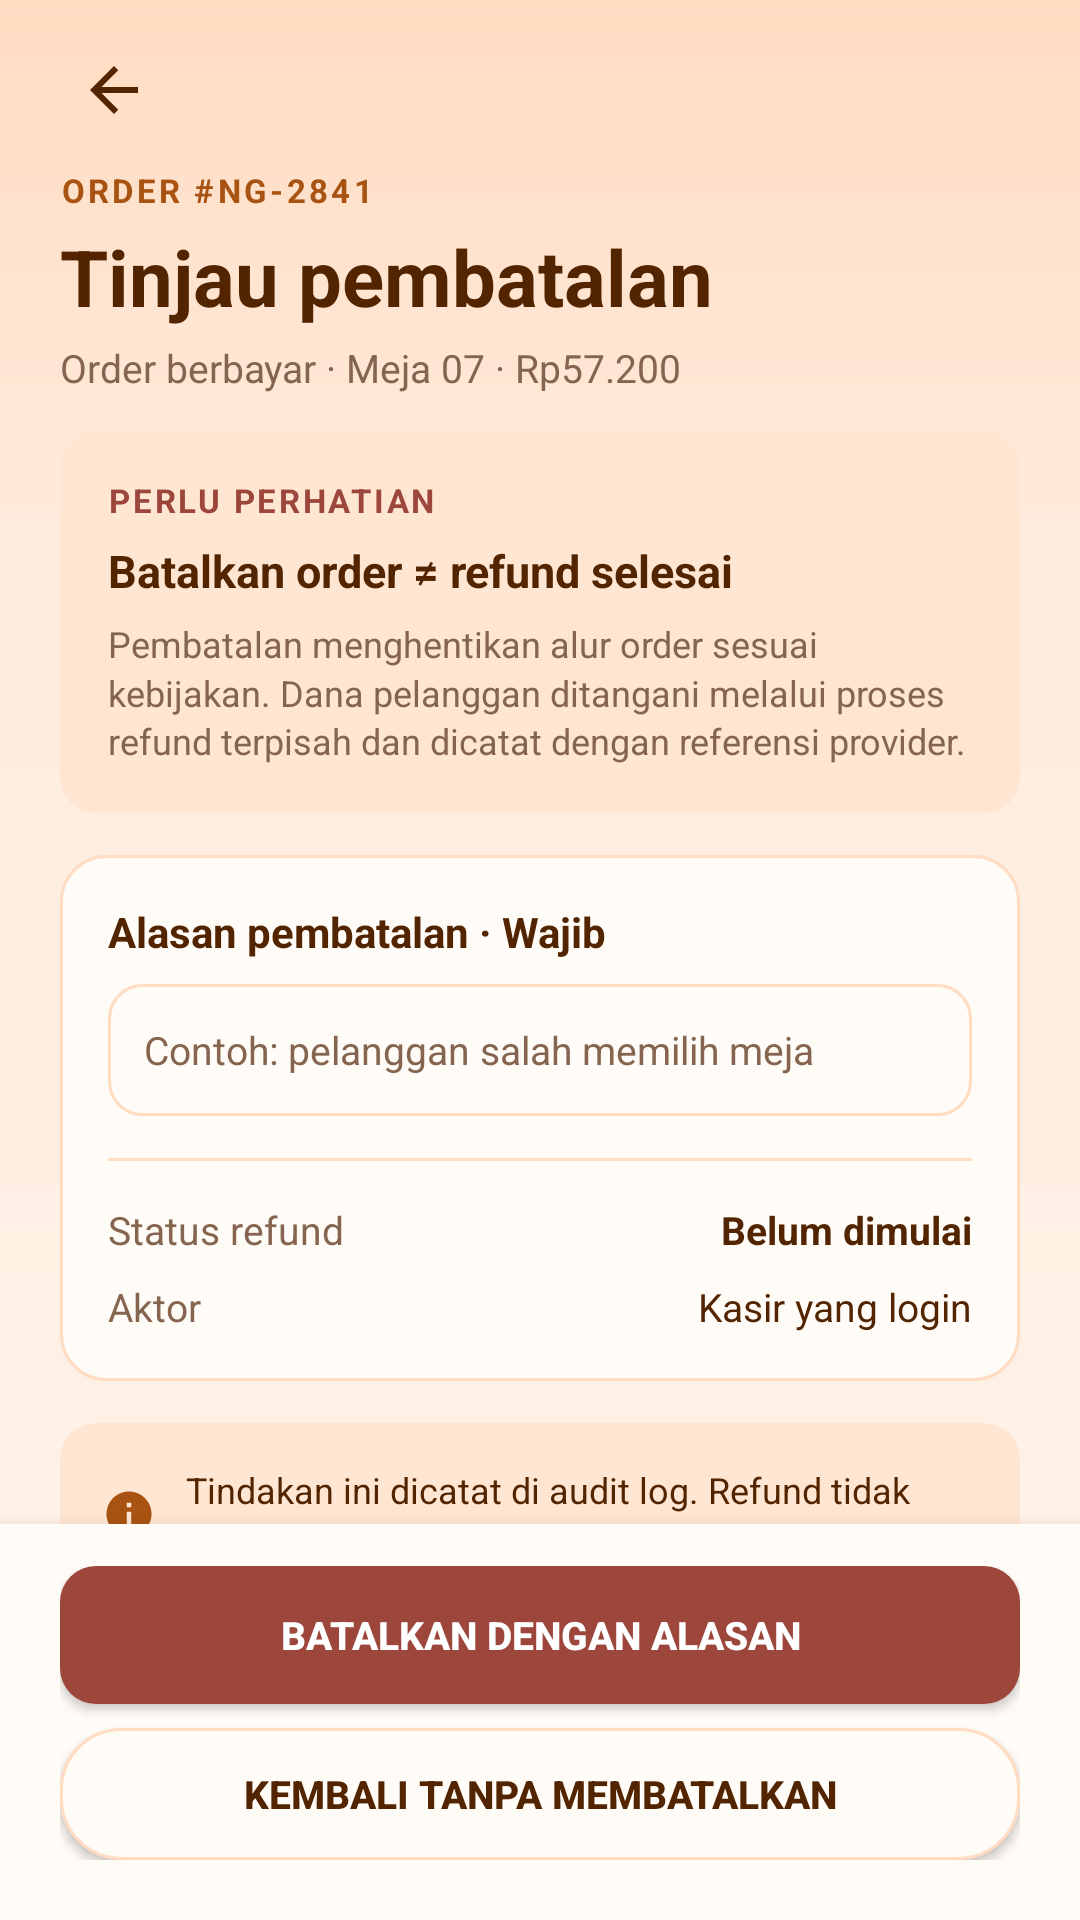

Icon bounding boxes for this 1080×1920 phone screenshot, format {"left": x1, "top": y1, "right": x2, "bottom": y2}:
Kembali: {"left": 90, "top": 66, "right": 138, "bottom": 114}
